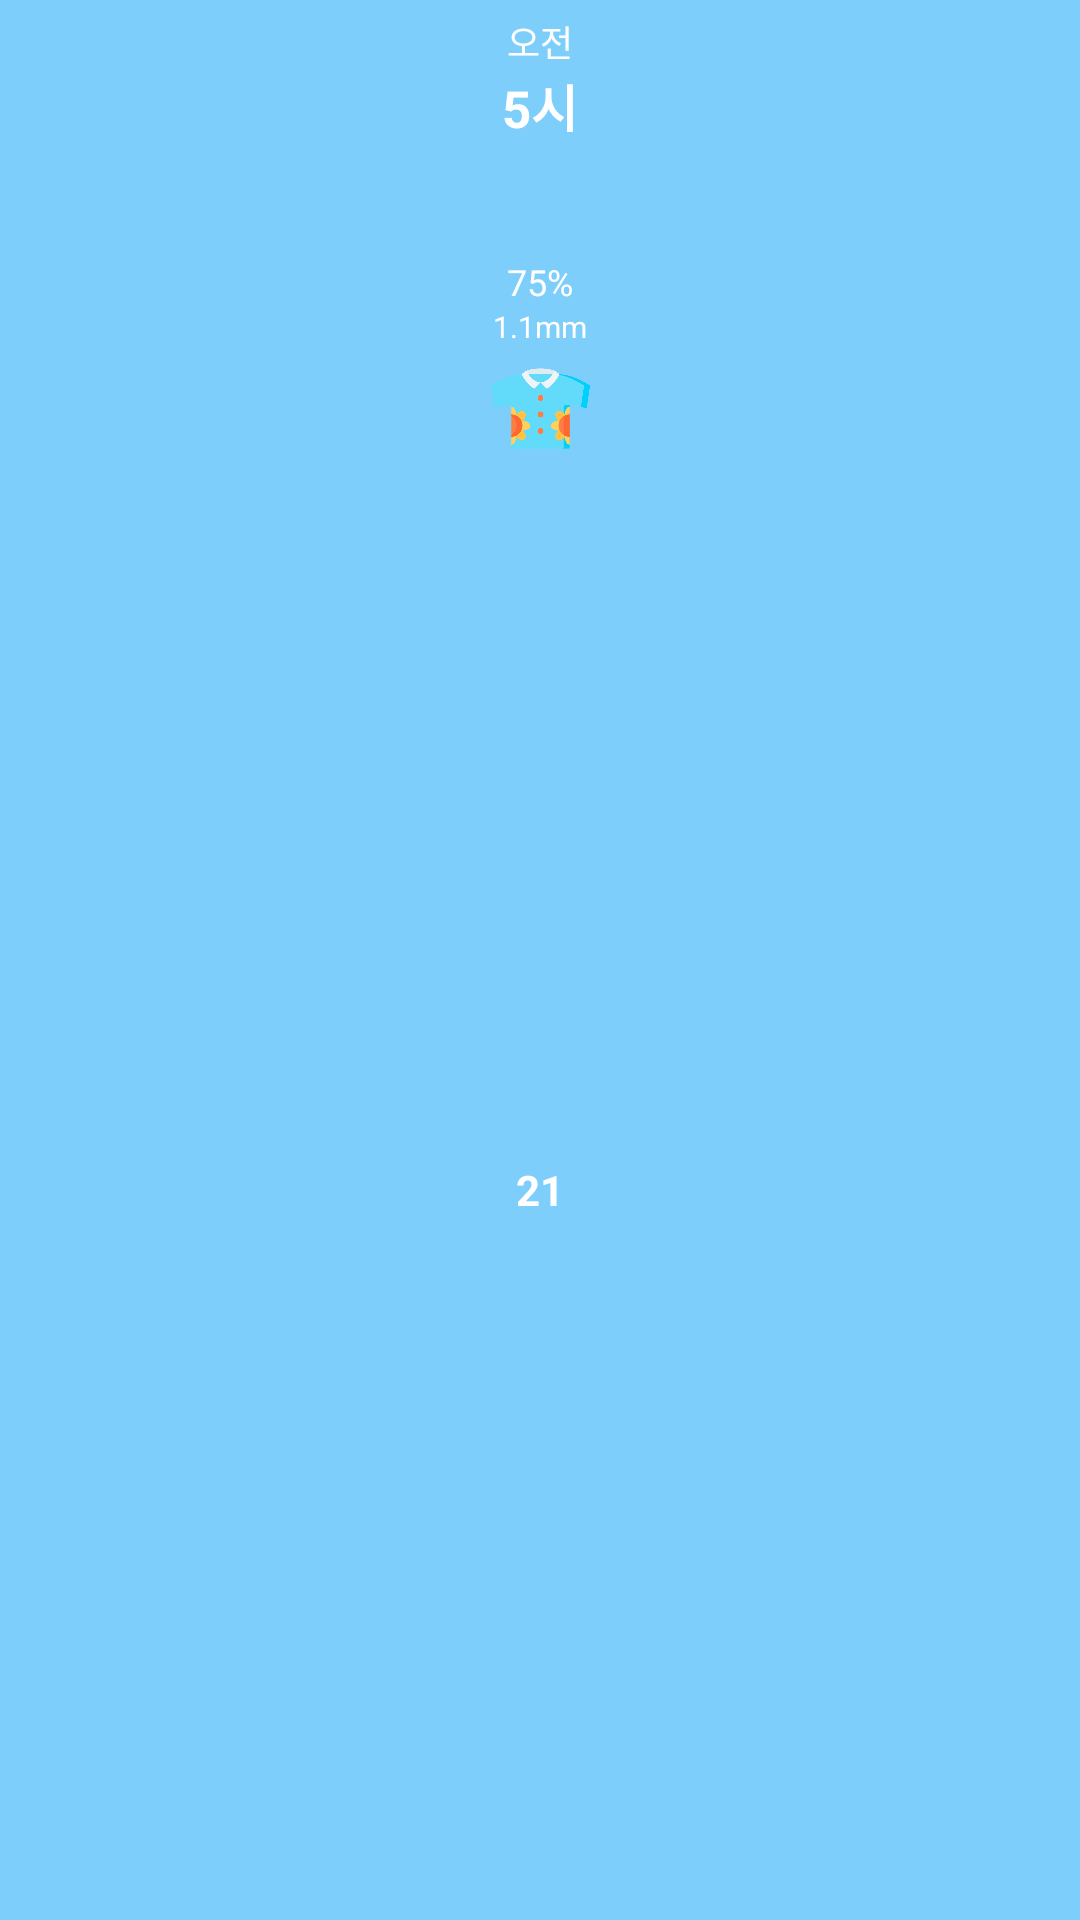

Icons on this 1080px×1920px Android screen, each with its box as bbox(x1, y1, x2, y2):
추천 옷차림 아이콘: bbox(491, 368, 590, 449)
